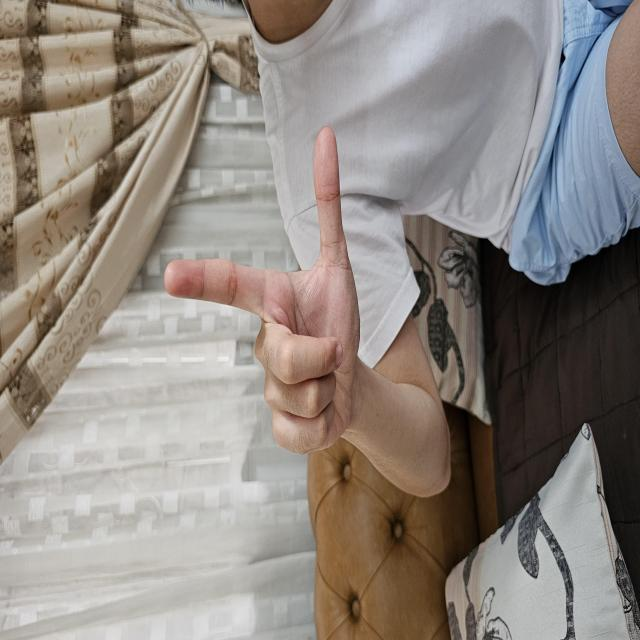L: (183, 162, 517, 362)
